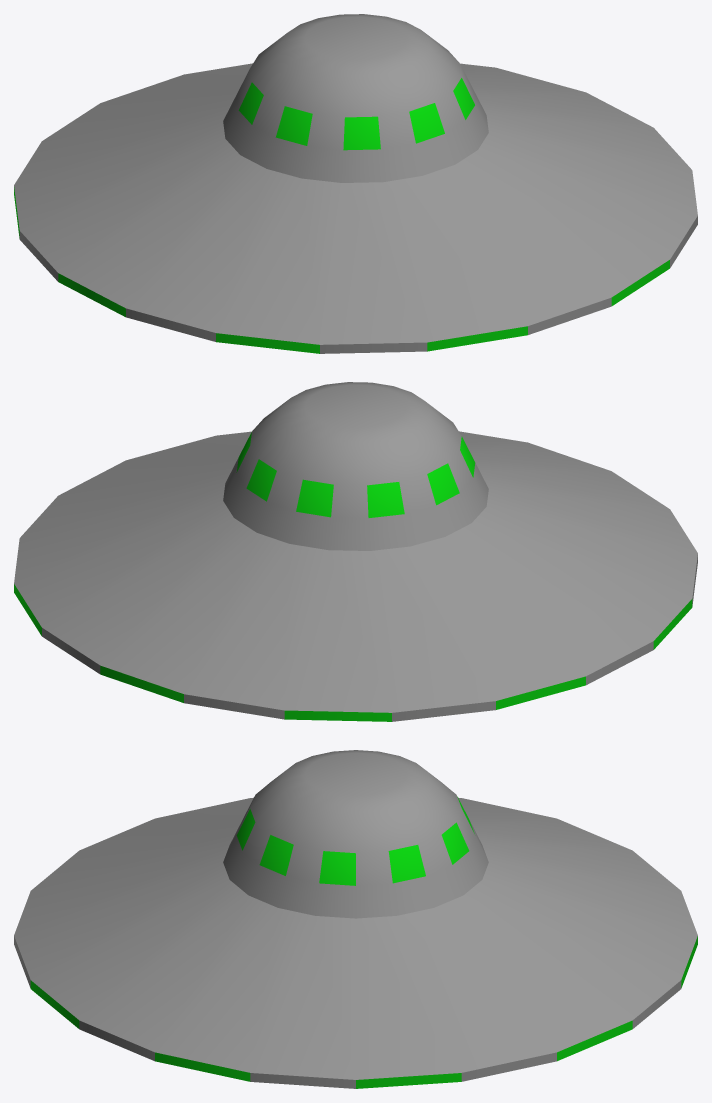
File: UFO.fbx
3 views of the same model, one above another, from view 1: azimuth 30°, elevation 25°; view 2: azimuth 150°, elevation 25°; view 3: azimuth 270°, elevation 25° (orthographic).
Parts seen in each view (by area): view 1: UFO; view 2: UFO; view 3: UFO.
Boxes of the visible parts, <box> form: UFO: <box>14,14,697,353</box>; UFO: <box>14,382,697,721</box>; UFO: <box>14,750,697,1088</box>.
Bounding box in the file's own units: 12 × 3.56 × 12.
